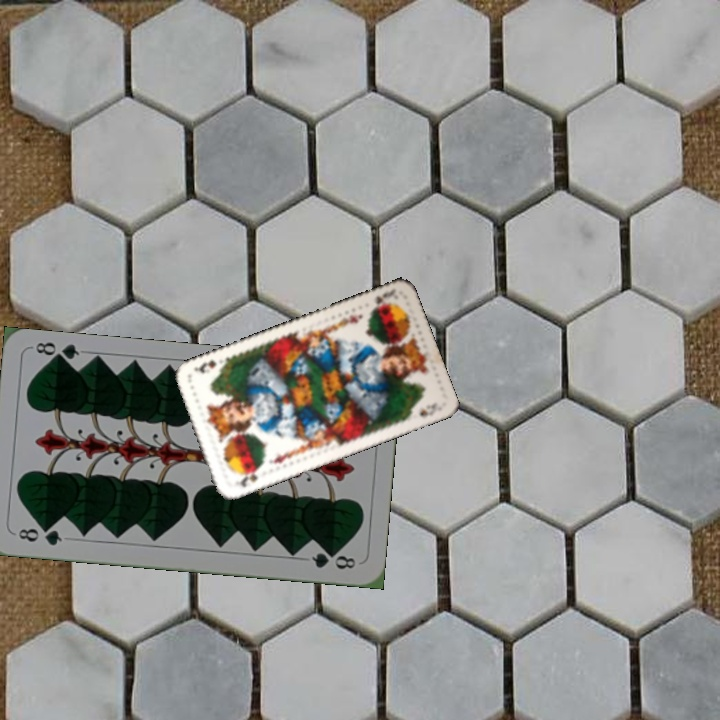G8: (14, 523, 65, 549)
SK: (230, 464, 263, 490), (366, 285, 396, 313)
